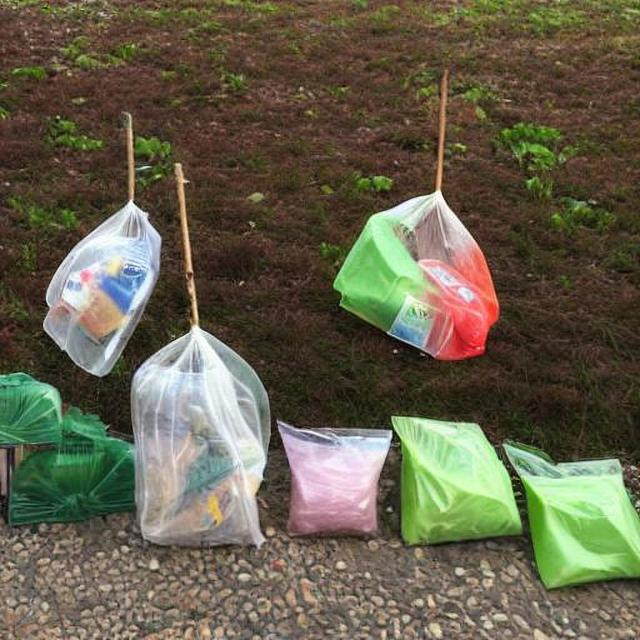plastic bag: (427, 423, 622, 568), (131, 330, 266, 538), (329, 190, 497, 353), (42, 199, 161, 378), (393, 417, 535, 542), (523, 456, 639, 593), (7, 402, 135, 522), (278, 424, 392, 534)
